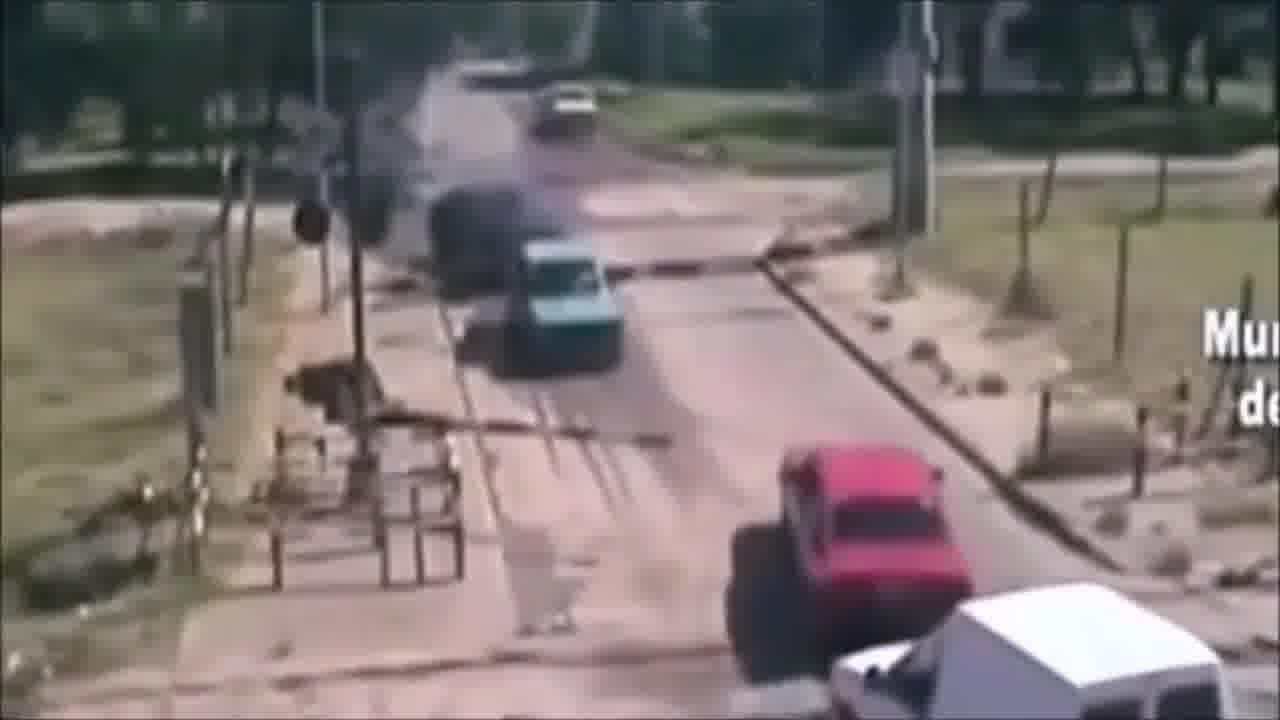crossing railway track: (734, 387, 1041, 720)
